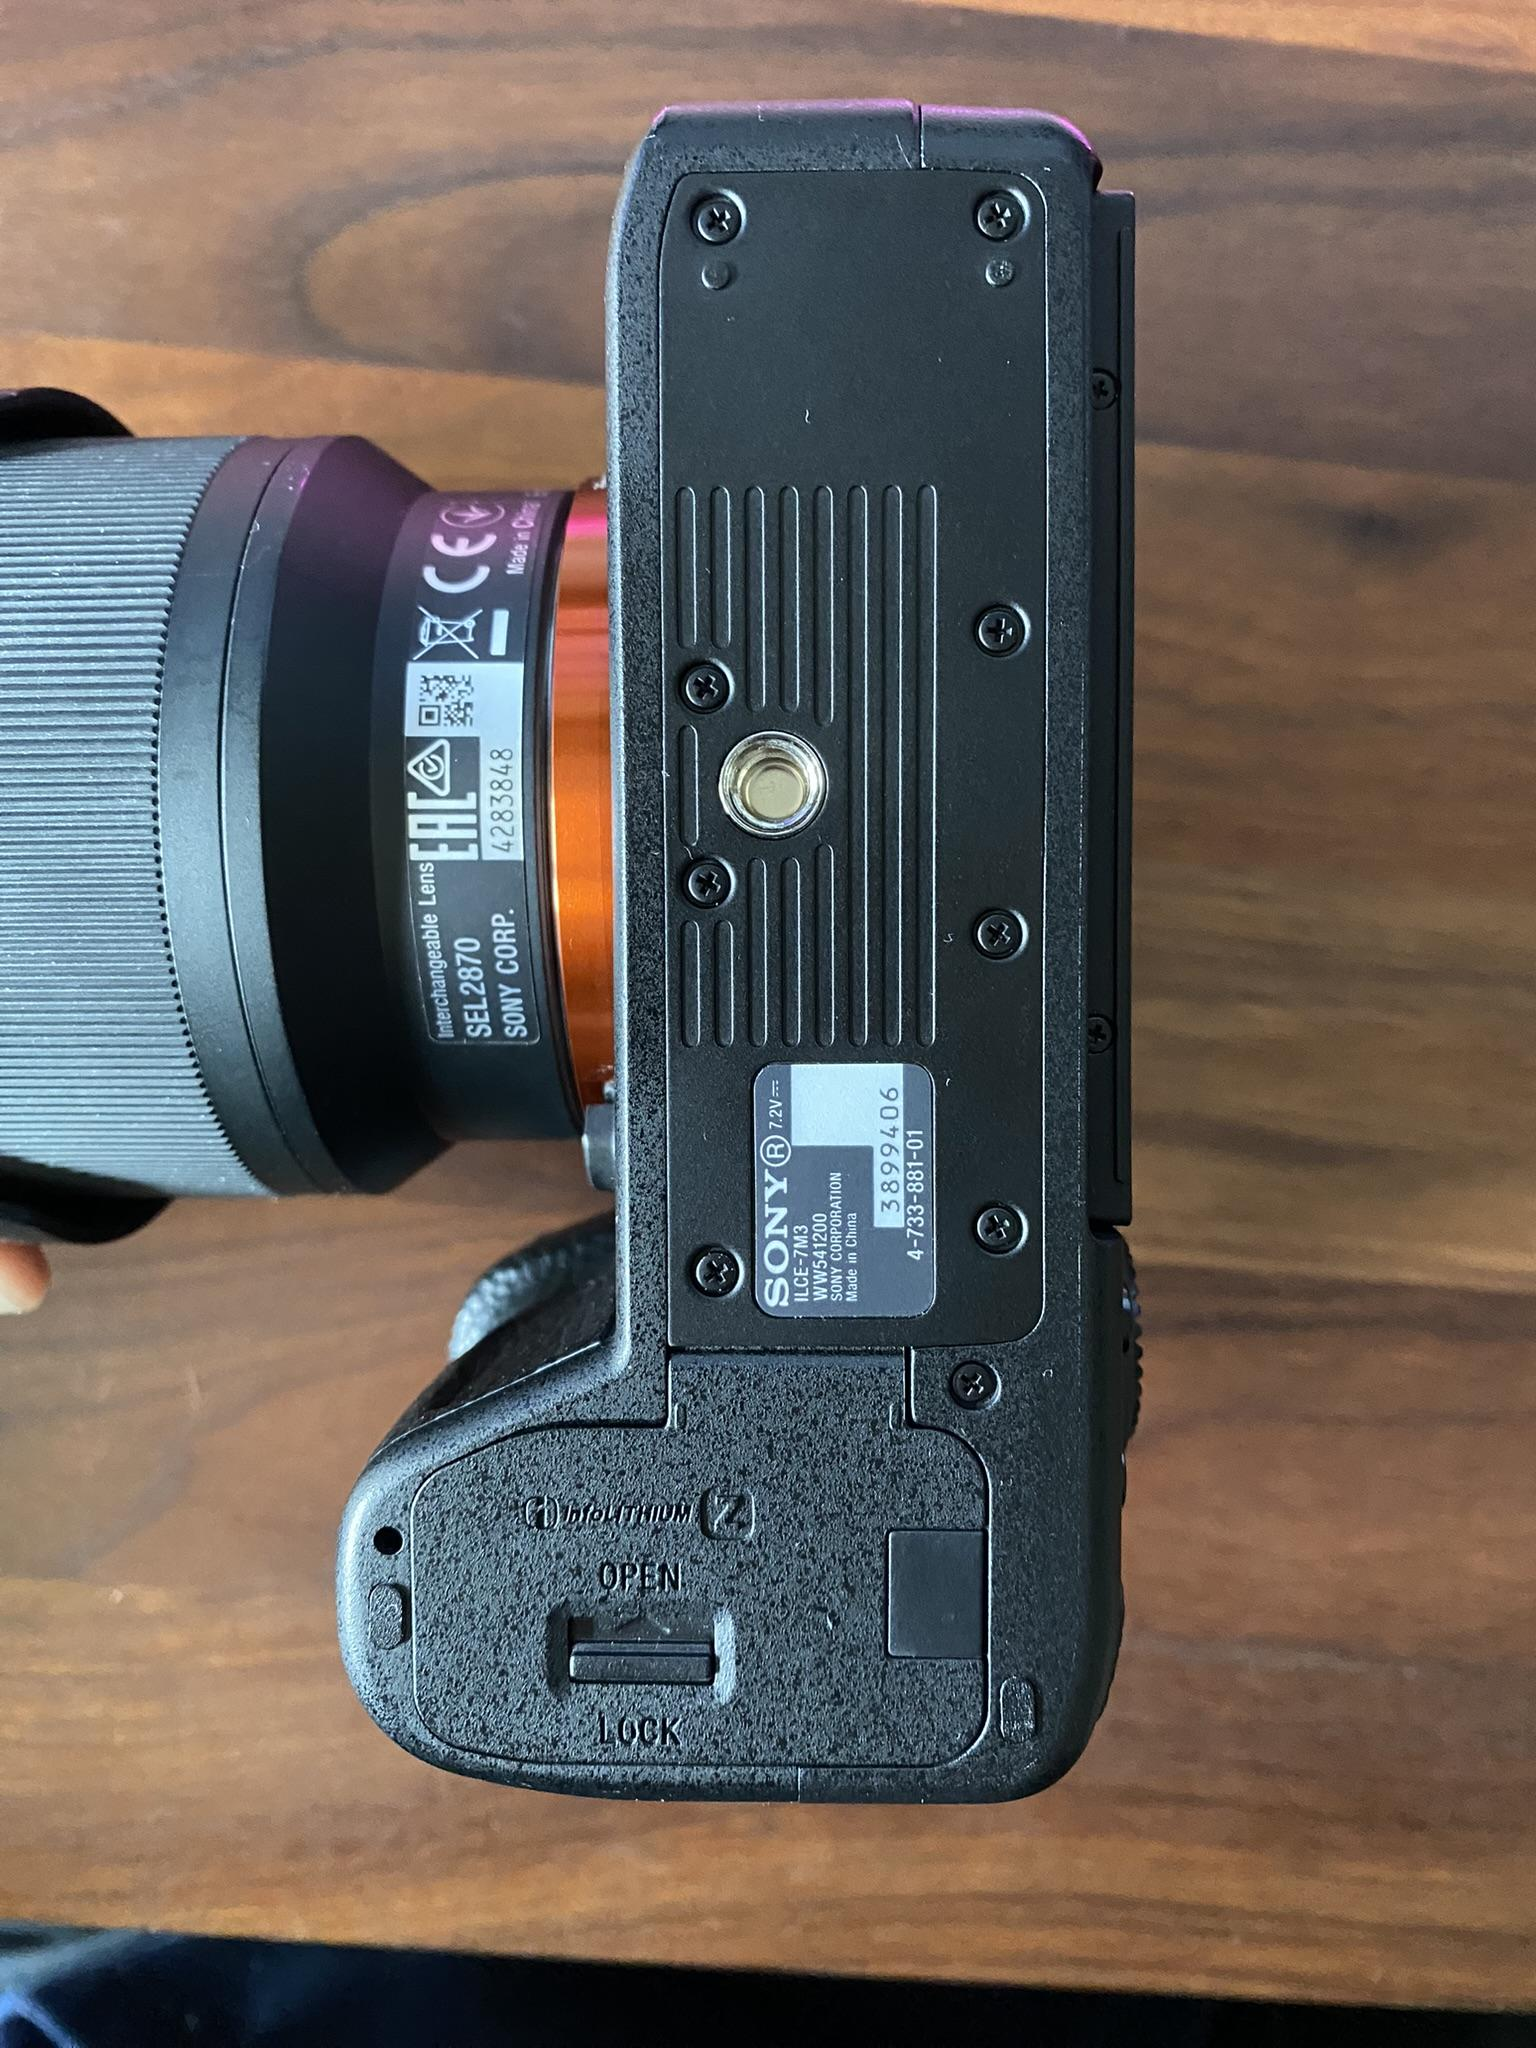PH: (971, 194, 1026, 247), (682, 856, 734, 908), (694, 1243, 742, 1298), (975, 910, 1020, 963), (694, 194, 741, 244), (684, 663, 729, 714), (976, 1206, 1021, 1256), (978, 610, 1026, 655), (952, 1359, 1000, 1405), (1091, 364, 1118, 414), (1086, 1013, 1113, 1063)
